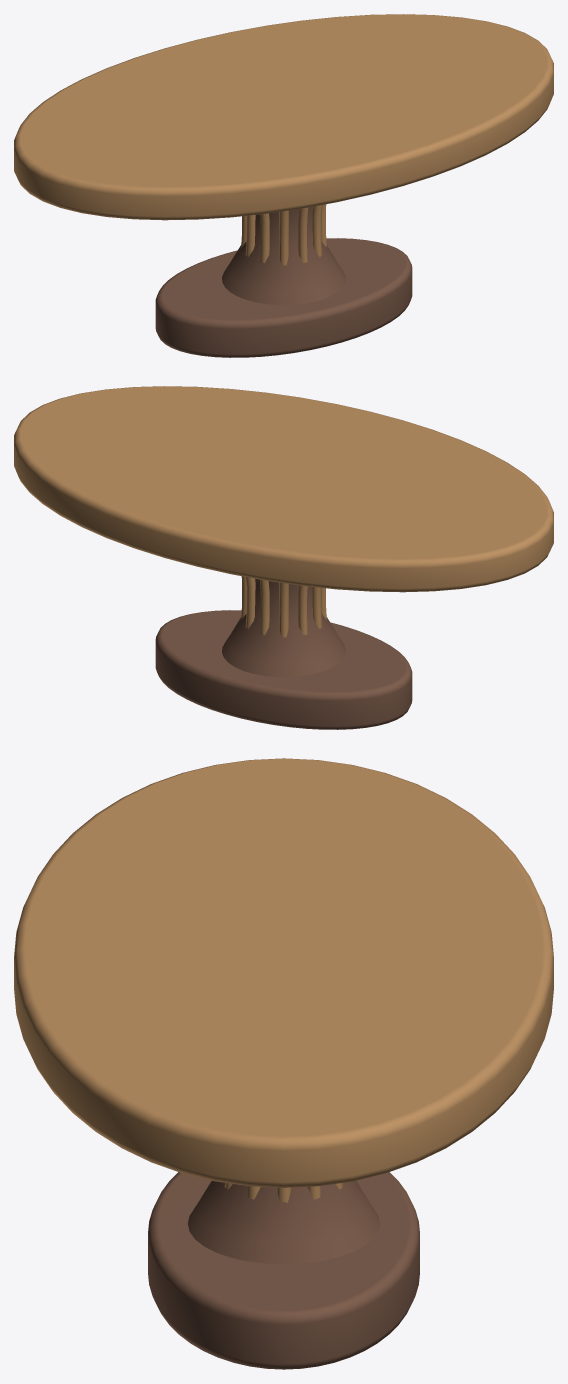
The model's file is diningtable.oval-new.glb.
3 renders of one model, top to bottom at view 1: azimuth 30°, elevation 25°; view 2: azimuth 150°, elevation 25°; view 3: azimuth 270°, elevation 25°, orthographic. The views are drawn at different scales.
Visible parts, largest first — view 1: Soft elliptical top or base; view 2: Soft elliptical top or base; view 3: Soft elliptical top or base.
Part boxes in pixels (x1=…): Soft elliptical top or base: x1=14, y1=14, x2=553, y2=357; Soft elliptical top or base: x1=14, y1=386, x2=553, y2=729; Soft elliptical top or base: x1=14, y1=758, x2=553, y2=1369.
Size of the model in its own units: 2.12 by 0.855 by 1.25.
